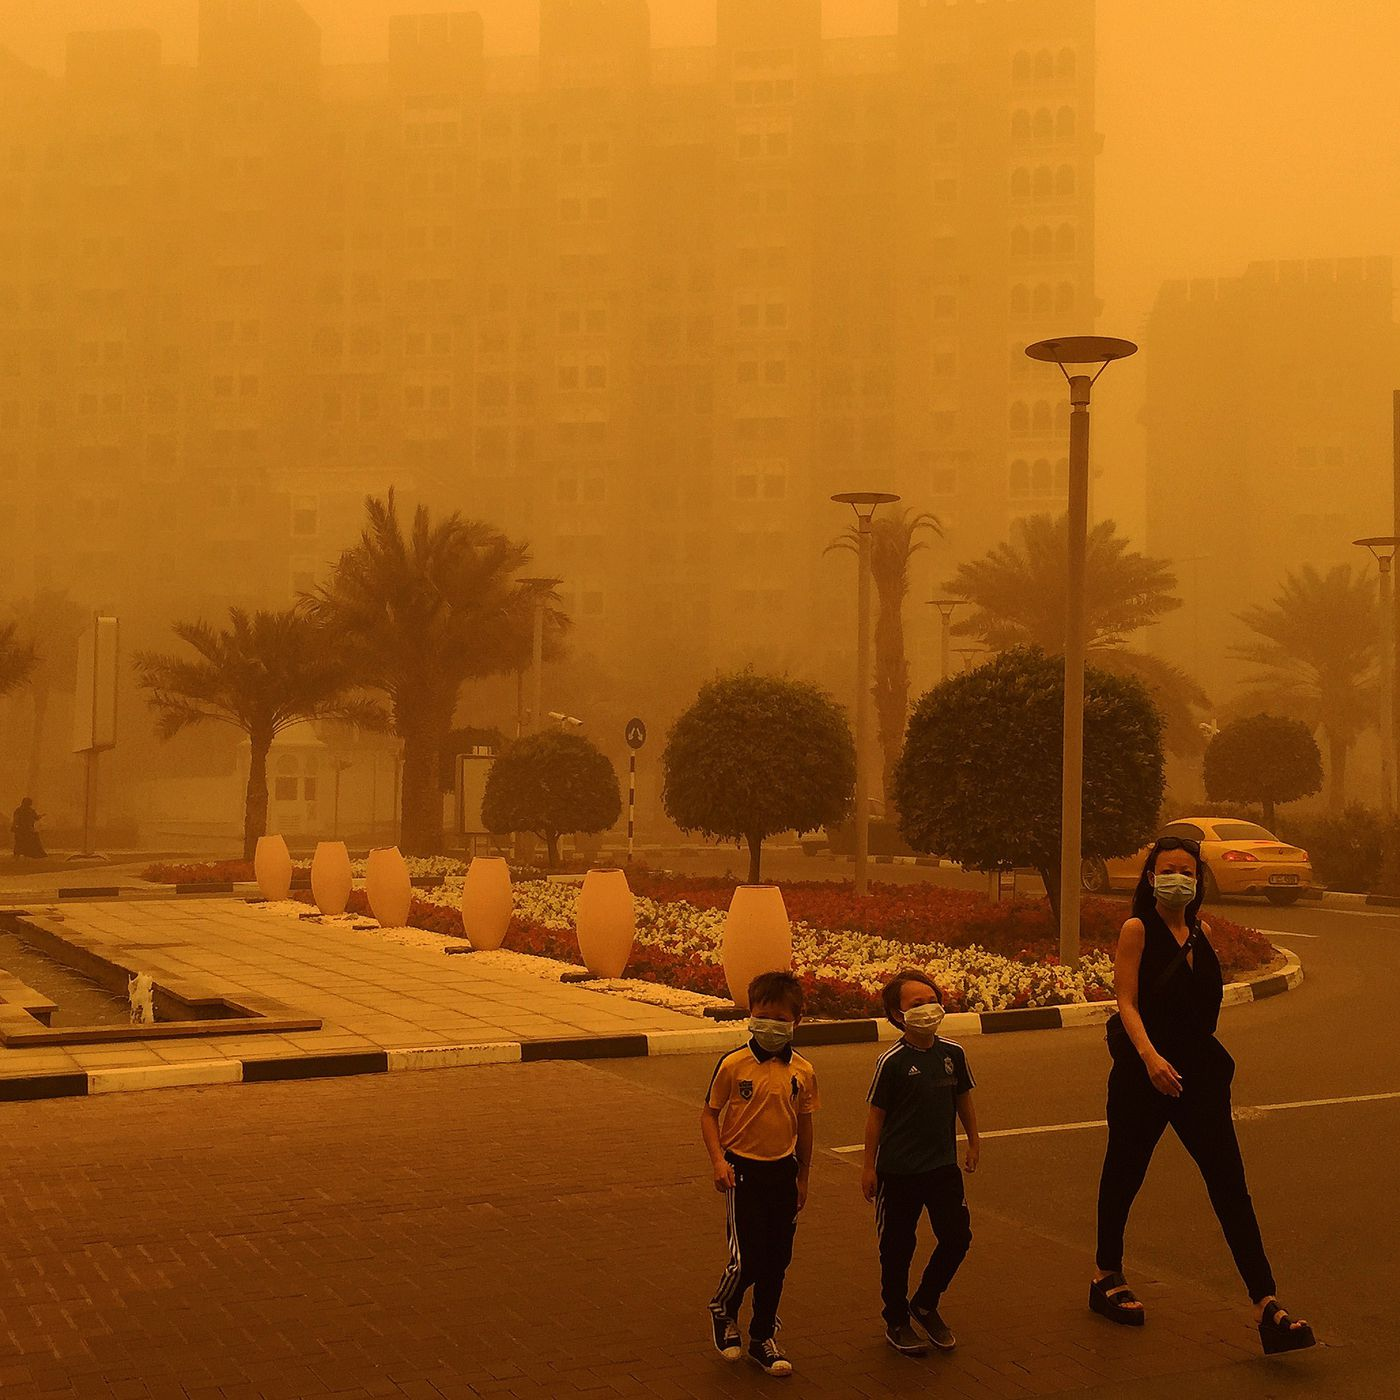person: (700, 965, 826, 1382), (864, 967, 988, 1358)
